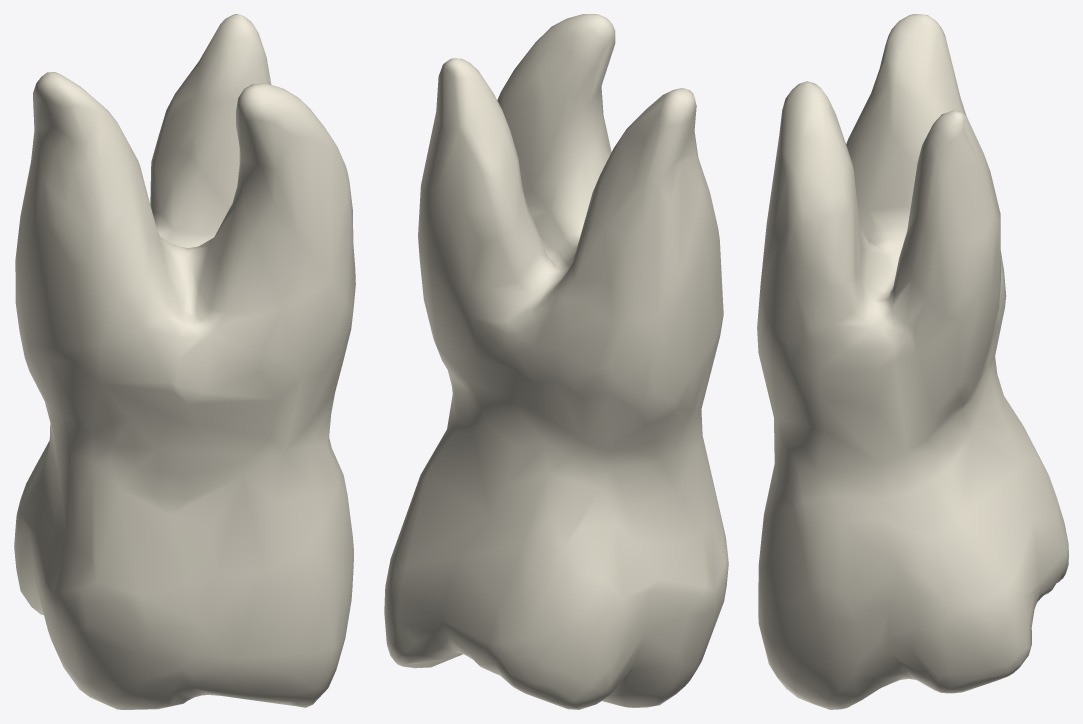
3 renders of one model, left to right at view 1: azimuth 30°, elevation 25°; view 2: azimuth 150°, elevation 25°; view 3: azimuth 270°, elevation 25°, orthographic. The views are drawn at different scales.
Visible parts, largest first — view 1: ZA_36ecbbe3aa4f20a0; view 2: ZA_36ecbbe3aa4f20a0; view 3: ZA_36ecbbe3aa4f20a0.
Boxes of the visible parts, bbox=[...] form: ZA_36ecbbe3aa4f20a0: bbox=[14, 14, 355, 709]; ZA_36ecbbe3aa4f20a0: bbox=[384, 14, 728, 709]; ZA_36ecbbe3aa4f20a0: bbox=[757, 14, 1068, 709].
Bounding box in the file's own units: 0.0113 × 0.024 × 0.0113.
